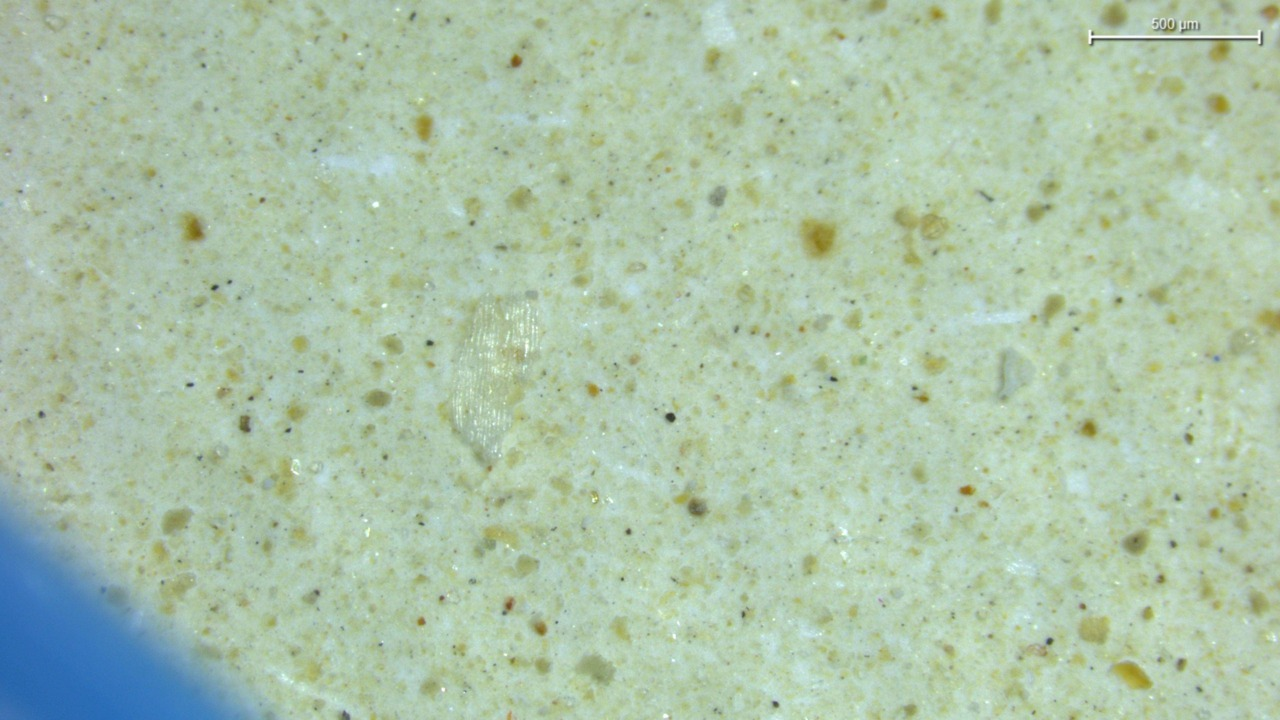microplastic_fragment: (449, 298, 540, 464), (995, 348, 1034, 400)
